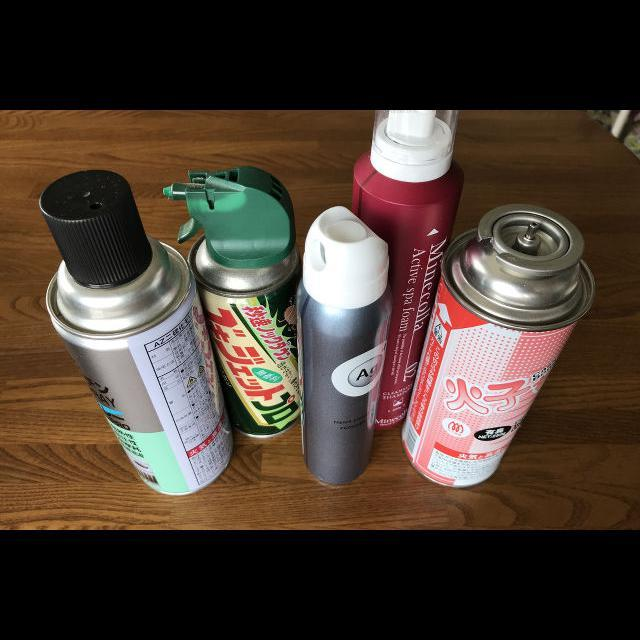chemical_spray_can: (39, 170, 233, 496), (403, 204, 595, 487), (163, 166, 301, 436), (297, 206, 392, 484)
